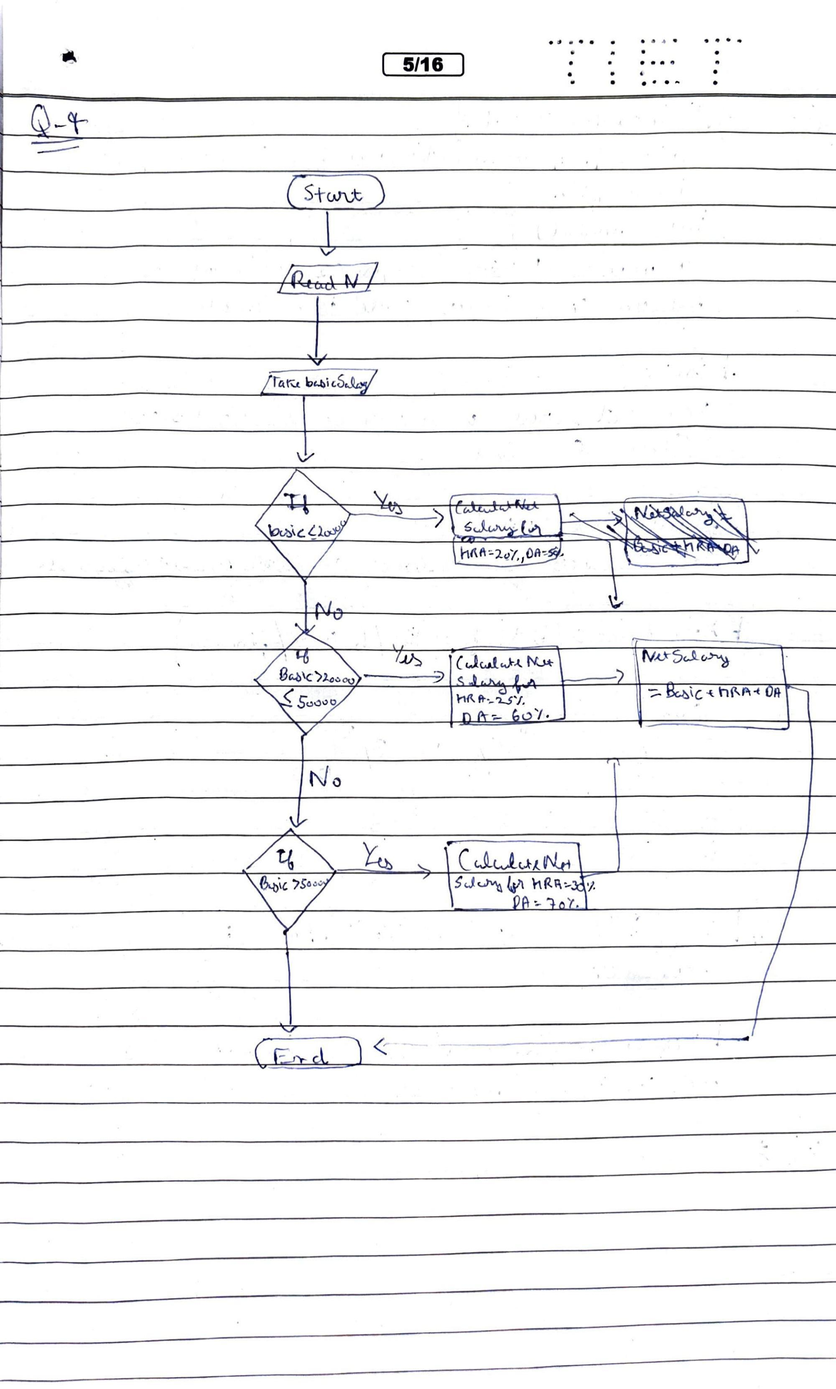cuttings: (567, 494, 760, 569)
